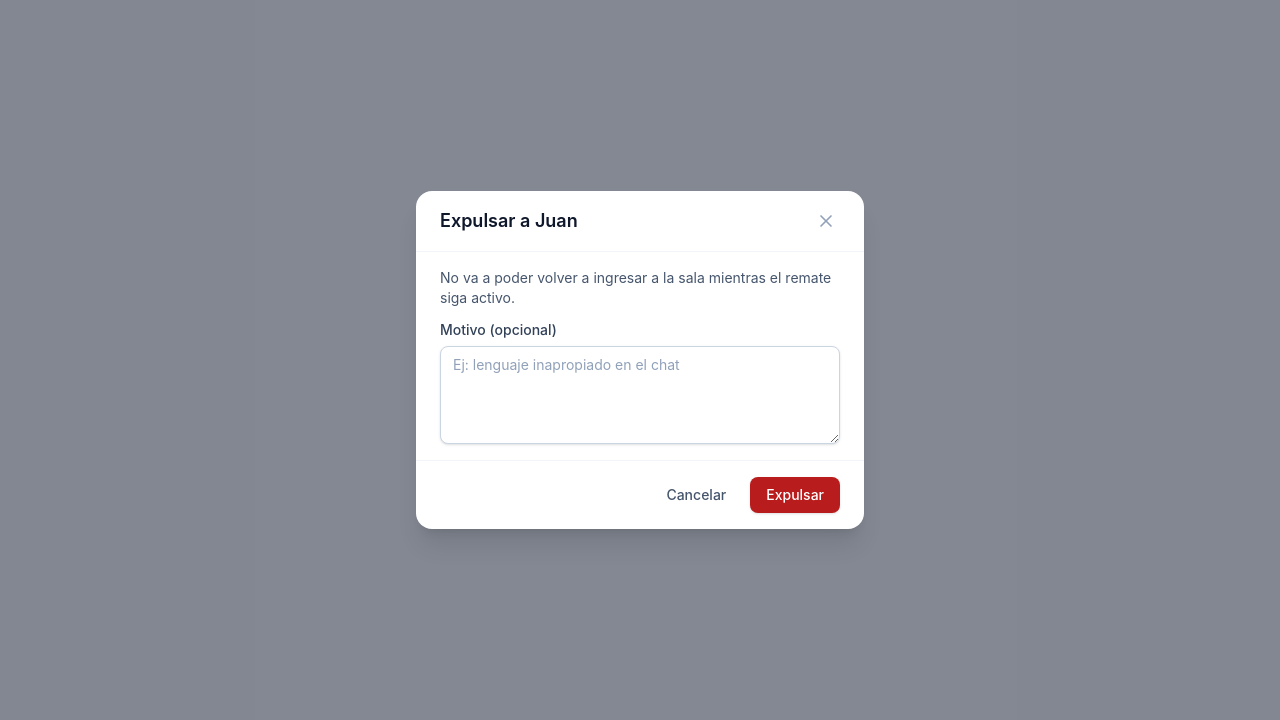
KickModal › muestra el error del backend si la expulsión falla
Click the button "Expulsar".
click(795, 495)  # box [750,477,840,513]
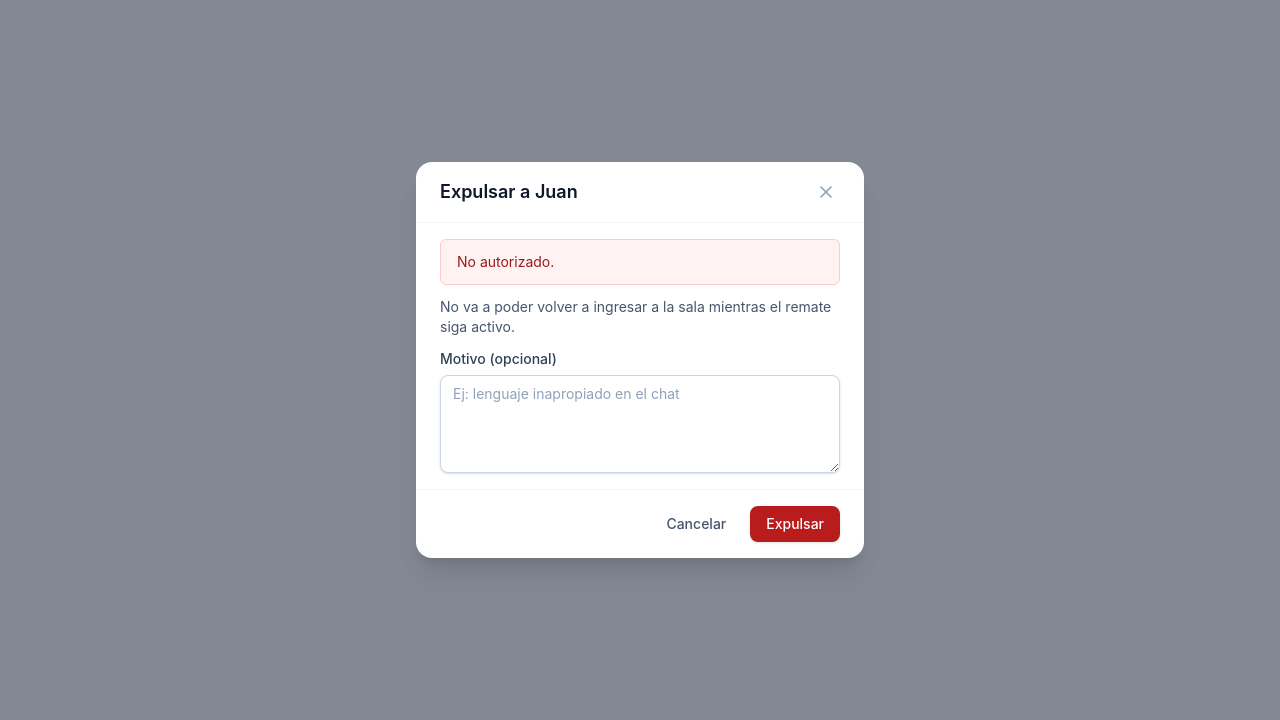
Expected: the text "No autorizado." is shown, [440,239,840,285]
